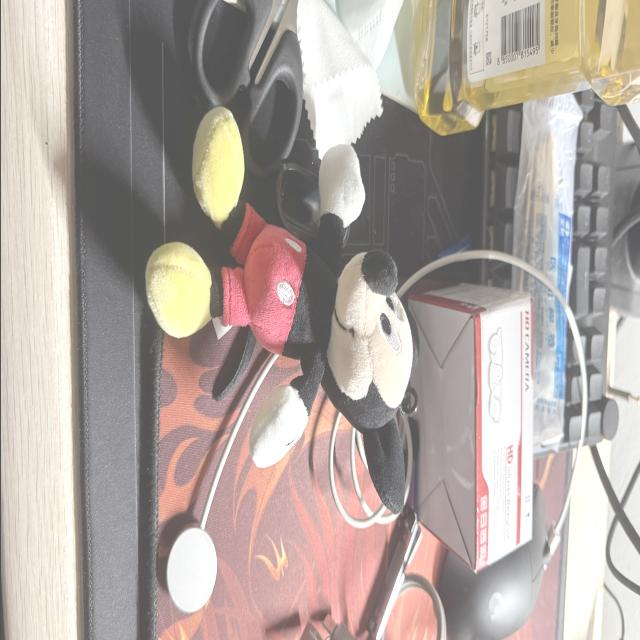mickey: (146, 109, 416, 512)
